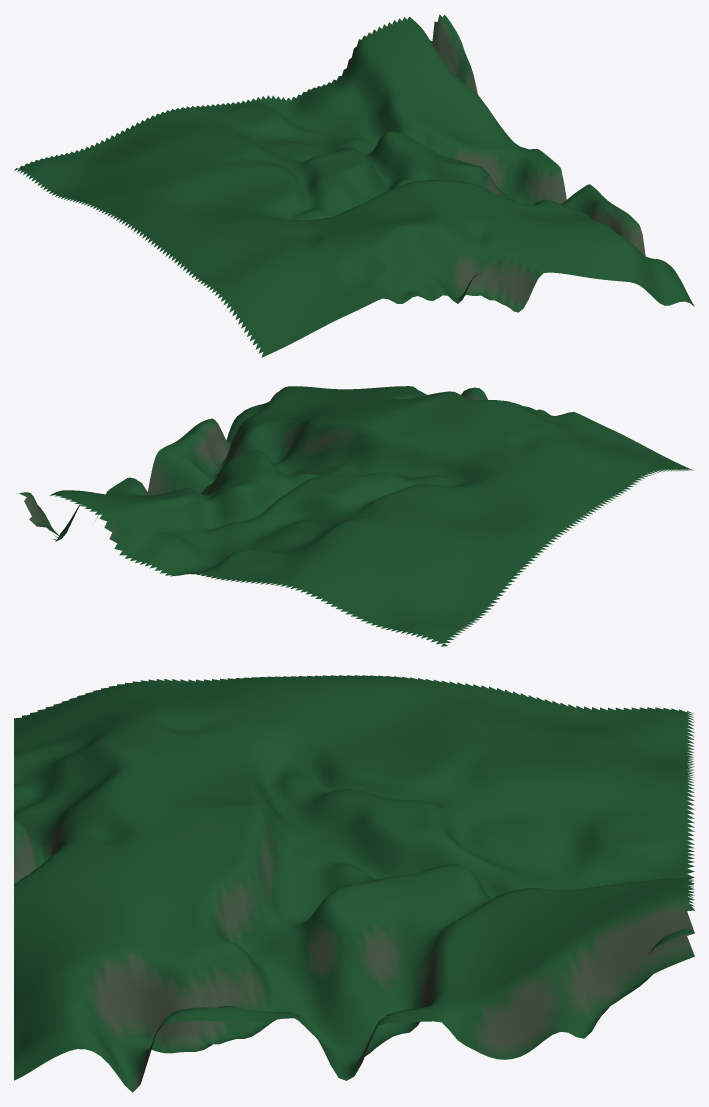
File: payo_land_x1_ym1.glb
The picture shows the model from 3 angles, top to bottom: view 1: azimuth 30°, elevation 25°; view 2: azimuth 150°, elevation 25°; view 3: azimuth 270°, elevation 25°; orthographic projection. The views are drawn at different scales.
Visible parts, largest first — view 1: payo_land_x1_ym1; view 2: payo_land_x1_ym1; view 3: payo_land_x1_ym1.
Boxes of the visible parts, bbox=[...] form: payo_land_x1_ym1: bbox=[14, 14, 694, 357]; payo_land_x1_ym1: bbox=[16, 386, 693, 646]; payo_land_x1_ym1: bbox=[14, 675, 694, 1092].
Bounding box in the file's own units: 258 × 71.43 × 258.
